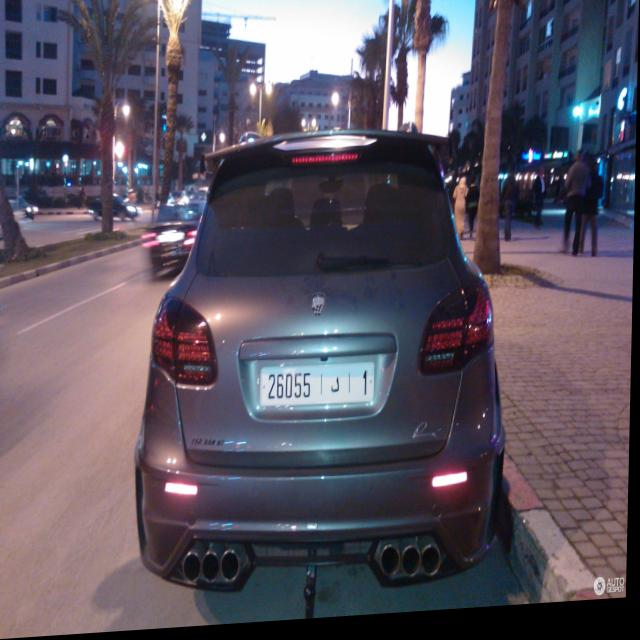License-Plate: (261, 367, 377, 412)
